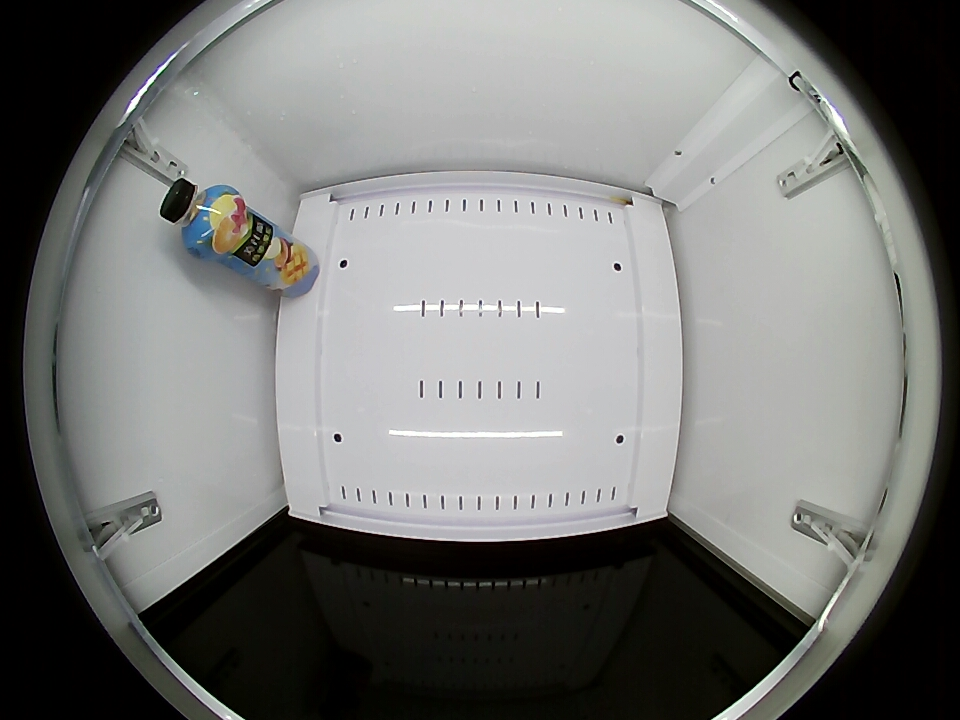guolicheng2: (159, 178, 242, 257)
